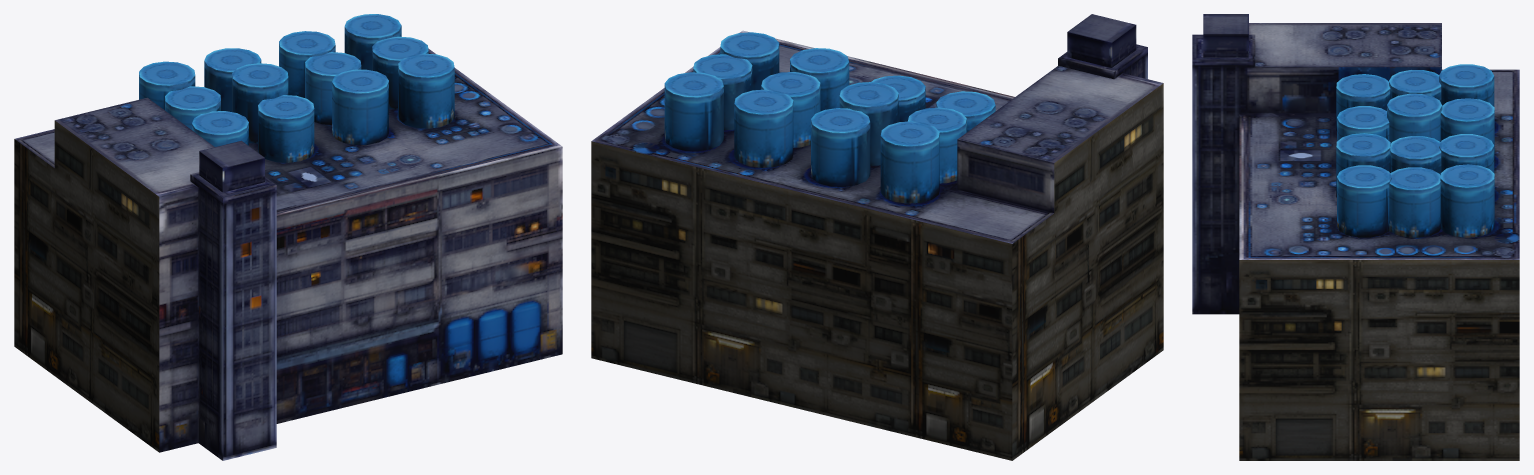
The model's file is CP_Slums_Water_Storage.fbx.
The picture shows the model from 3 angles, left to right: view 1: azimuth 30°, elevation 25°; view 2: azimuth 150°, elevation 25°; view 3: azimuth 270°, elevation 25°; orthographic projection. The views are drawn at different scales.
Visible parts, largest first — view 1: CP_Slums_Water_Storage; view 2: CP_Slums_Water_Storage; view 3: CP_Slums_Water_Storage.
Boxes of the visible parts, x1=… form: CP_Slums_Water_Storage: x1=14, y1=14, x2=562, y2=460; CP_Slums_Water_Storage: x1=591, y1=14, x2=1163, y2=460; CP_Slums_Water_Storage: x1=1192, y1=14, x2=1519, y2=460.
Bounding box in the file's own units: 2859 × 1946 × 2078.
